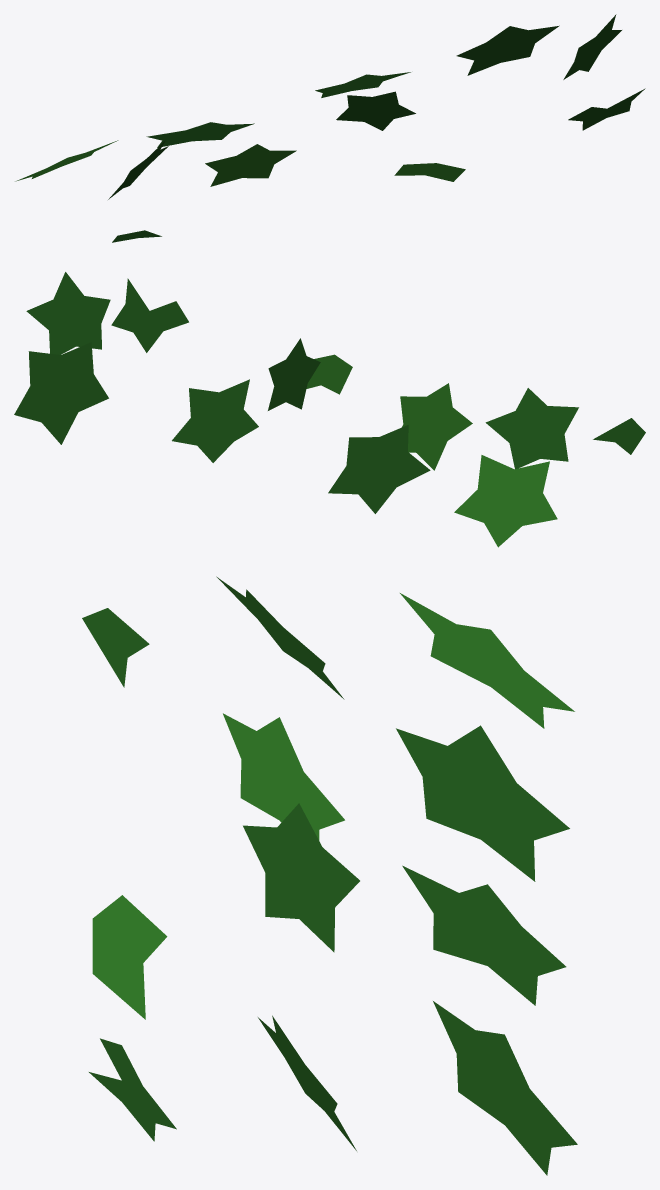
3 renders of one model, top to bottom at view 1: azimuth 30°, elevation 25°; view 2: azimuth 150°, elevation 25°; view 3: azimuth 270°, elevation 25°, orthographic. The views are drawn at different scales.
Parts seen in each view (by area): view 1: r4c1_l01; view 2: r4c1_l01; view 3: r4c1_l01.
Part boxes in pixels (bbox=[...]): r4c1_l01: bbox=[15, 14, 645, 242]; r4c1_l01: bbox=[14, 272, 645, 547]; r4c1_l01: bbox=[82, 576, 577, 1175].
Size of the model in its own units: 2.33 by 0.3913 by 0.8782.
